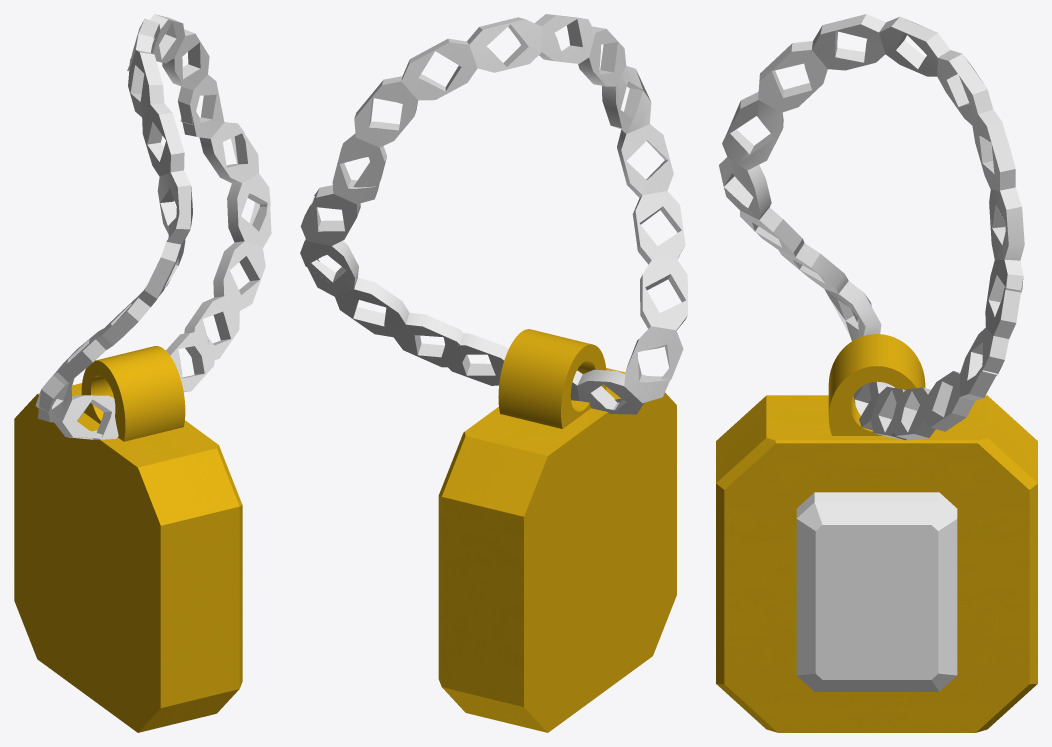
The model's file is Jewel1.glb.
The picture shows the model from 3 angles, left to right: view 1: azimuth 30°, elevation 25°; view 2: azimuth 150°, elevation 25°; view 3: azimuth 270°, elevation 25°; orthographic projection. The views are drawn at different scales.
Visible parts, largest first — view 1: case, chain; view 2: case, chain; view 3: case, chain, jewel.
Boxes of the visible parts, x1=… form: case: x1=14, y1=346, x2=242, y2=732; chain: x1=35, y1=14, x2=271, y2=439; case: x1=438, y1=329, x2=676, y2=732; chain: x1=300, y1=14, x2=687, y2=414; case: x1=716, y1=334, x2=1037, y2=732; chain: x1=719, y1=14, x2=1024, y2=440; jewel: x1=796, y1=492, x2=957, y2=691.
Bounding box in the file's own units: 2.33 × 4.82 × 2.
Materials: 3 (1 with a texture image).
